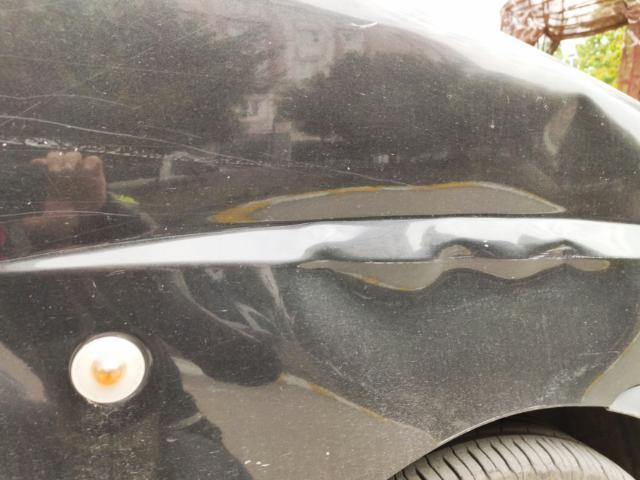Fender: (0, 134, 640, 351)
